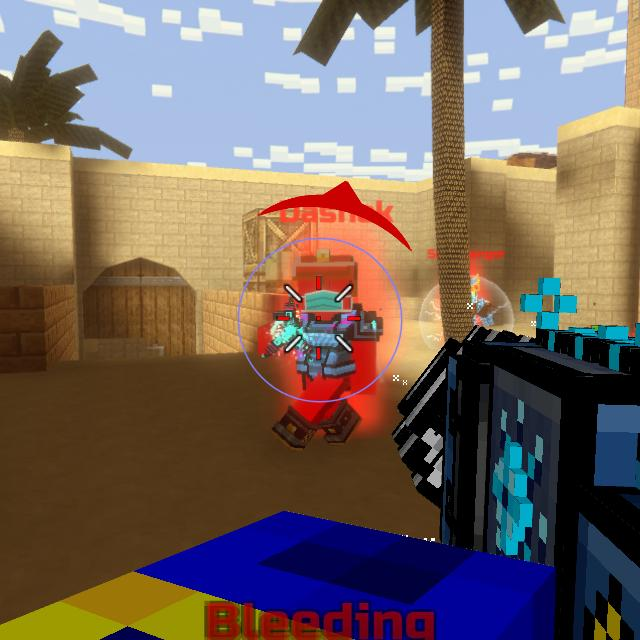Enemy: (271, 249, 388, 448), (470, 276, 478, 327), (473, 278, 482, 322)
